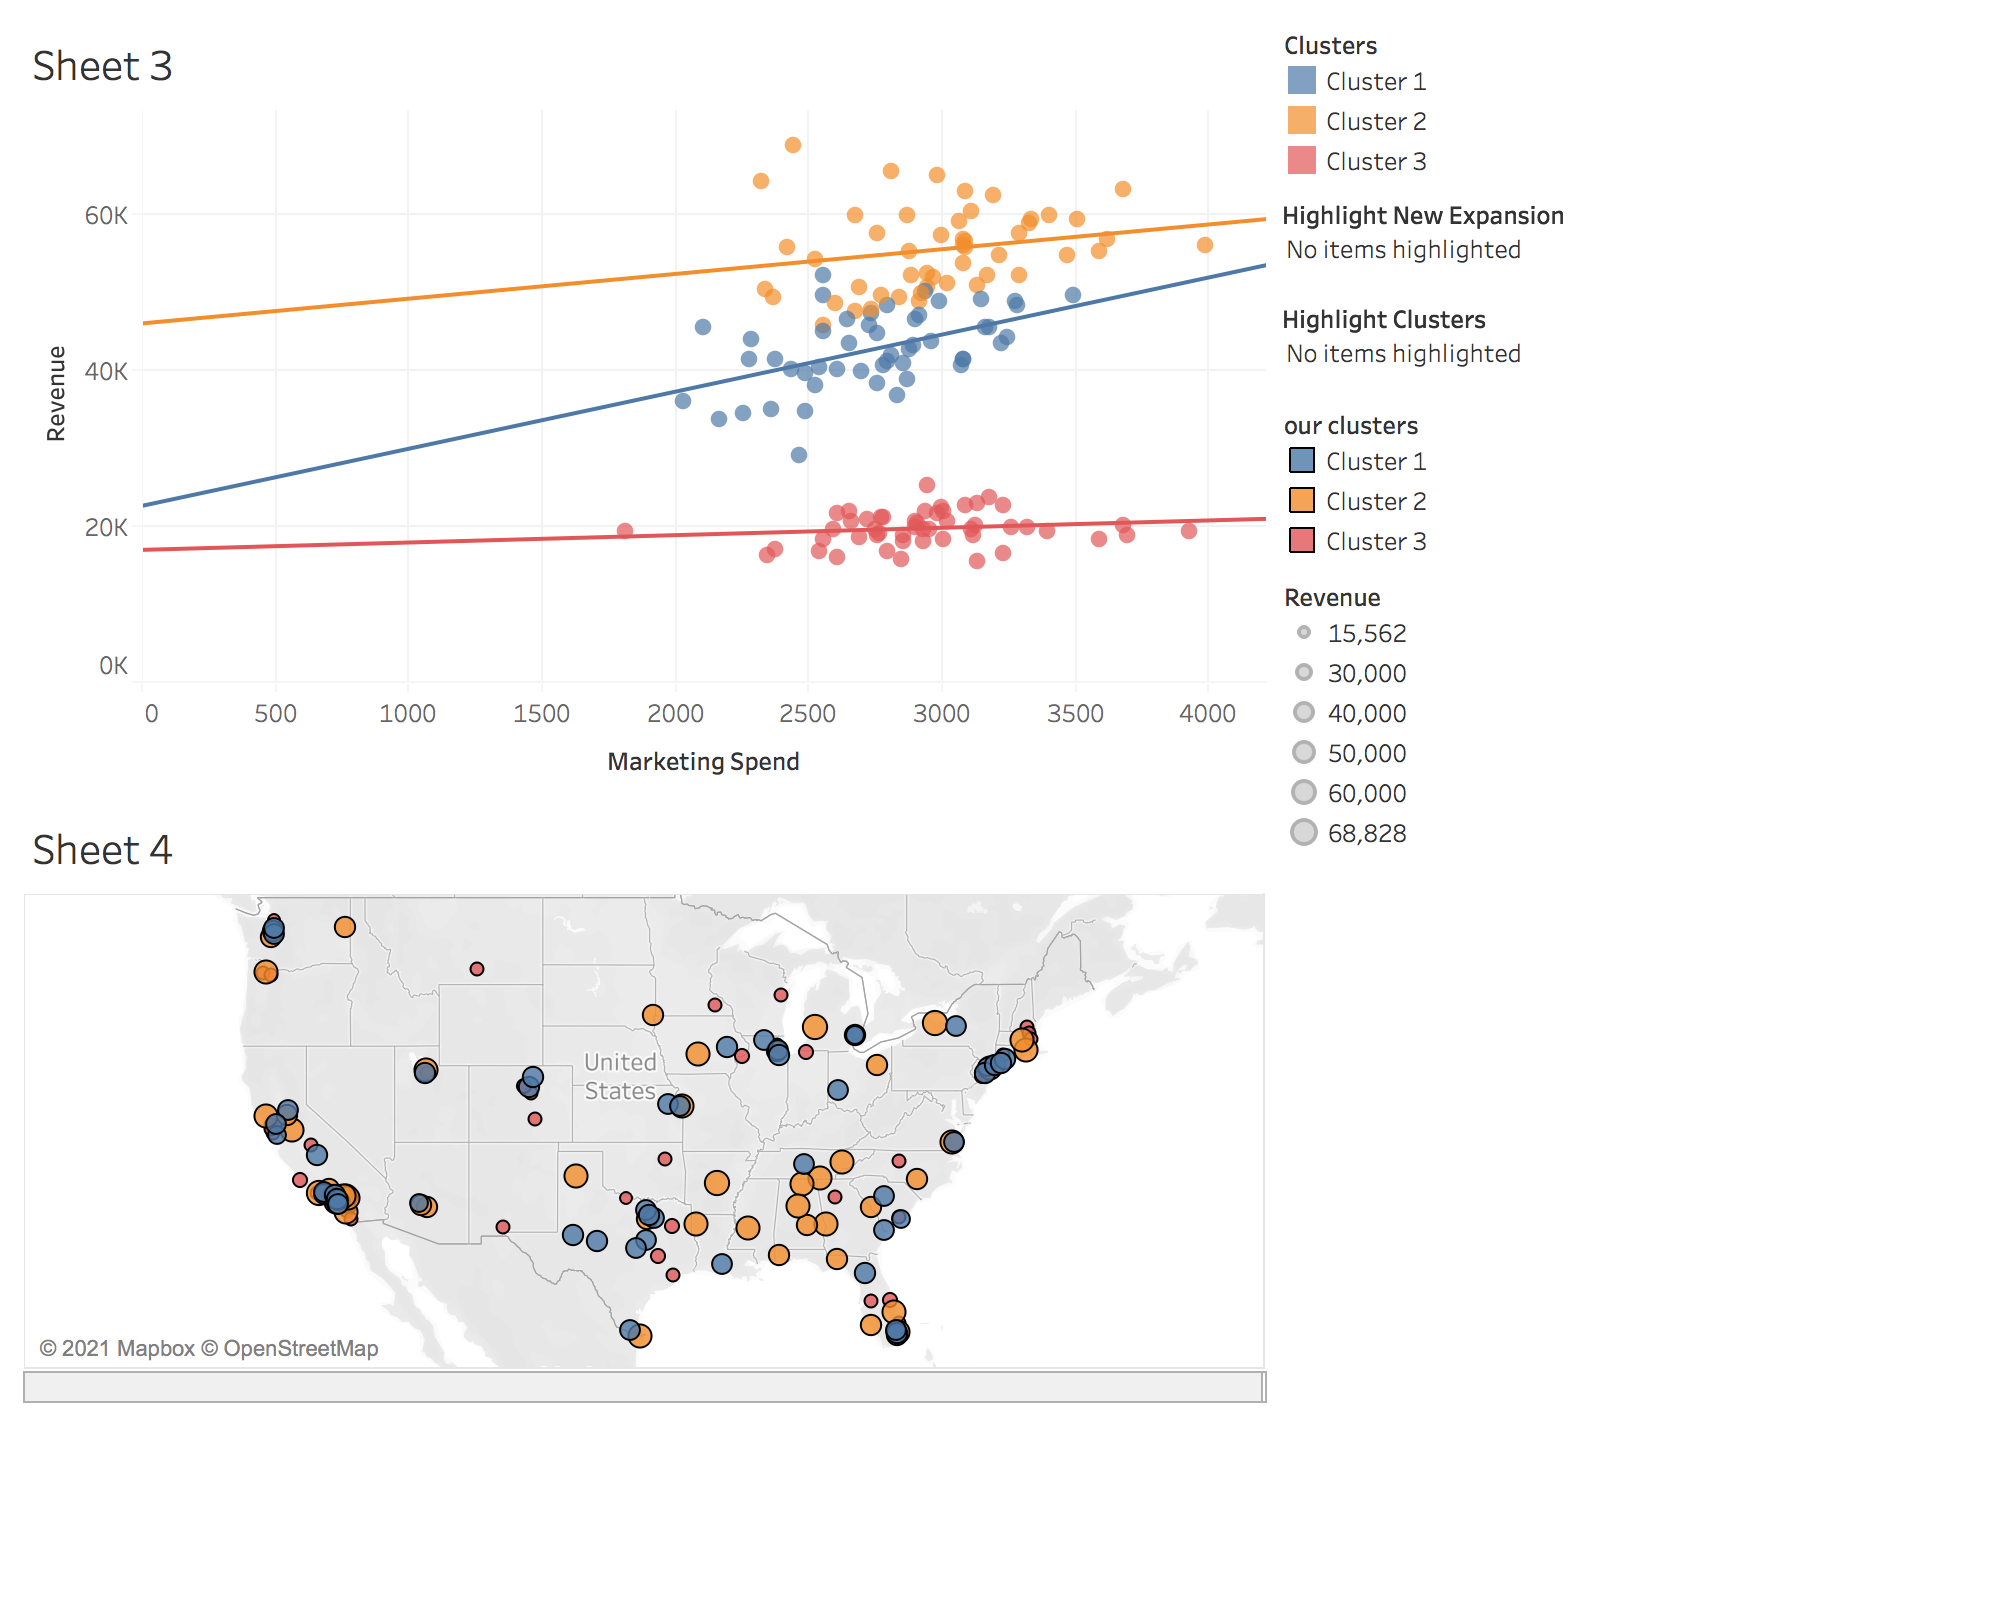

This screenshot's page, from the dashboard's own definition file:
{"tool":"tableau","page":{"name":"Dashboard 1","canvas":[1000,800],"ordinal":0},"visuals":[{"type":"worksheet","title":"Sheet 3","mark":"Shape","rows":["Revenue"],"cols":["Marketing Spend"],"box":[8,8,629,392]},{"type":"legend","title":"Sheet 3","param":"[federated.0xzfwpy0z8xfom1gdo0un1d6md7q].[none:AdhocCluster:1:ok]","box":[637,8,355,86]},{"type":"highlighter","title":"Sheet 3","param":"[federated.0xzfwpy0z8xfom1gdo0un1d6md7q].[none:New Expansion:nk]","box":[637,94,355,52]},{"type":"highlighter","title":"Sheet 3","param":"[federated.0xzfwpy0z8xfom1gdo0un1d6md7q].[none:AdhocCluster:1:ok]","box":[637,146,355,52]},{"type":"legend","title":"Sheet 4","param":"[federated.0xzfwpy0z8xfom1gdo0un1d6md7q].[New Expansion & Store ID (clusters)]","box":[637,198,355,86]},{"type":"legend","title":"Sheet 4","param":"[federated.0xzfwpy0z8xfom1gdo0un1d6md7q].[sum:Revenue:qk]","box":[637,284,355,146]},{"type":"worksheet","title":"Sheet 4","mark":"Automatic","box":[8,400,629,392]}]}

Visuals, with their boxes in screenshot pixels (x1, y1, x2, y2), scaled from the page's 1000x800 canvas onto the 2000x1600 screenshot:
"Sheet 3" worksheet (Shape marks): box(16, 16, 1274, 800)
"Sheet 3" legend: box(1274, 16, 1984, 188)
"Sheet 3" highlighter: box(1274, 188, 1984, 292)
"Sheet 3" highlighter: box(1274, 292, 1984, 396)
"Sheet 4" legend: box(1274, 396, 1984, 568)
"Sheet 4" legend: box(1274, 568, 1984, 860)
"Sheet 4" worksheet: box(16, 800, 1274, 1584)
